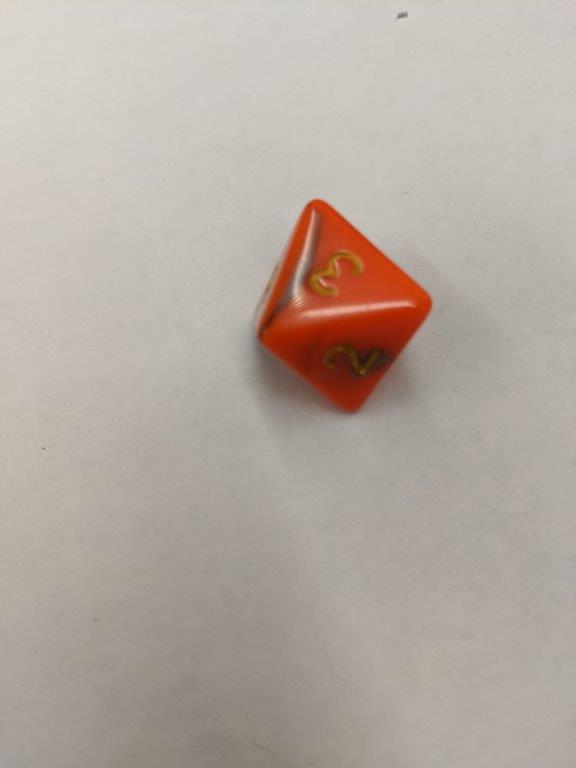d8-3: (253, 196, 433, 418)
